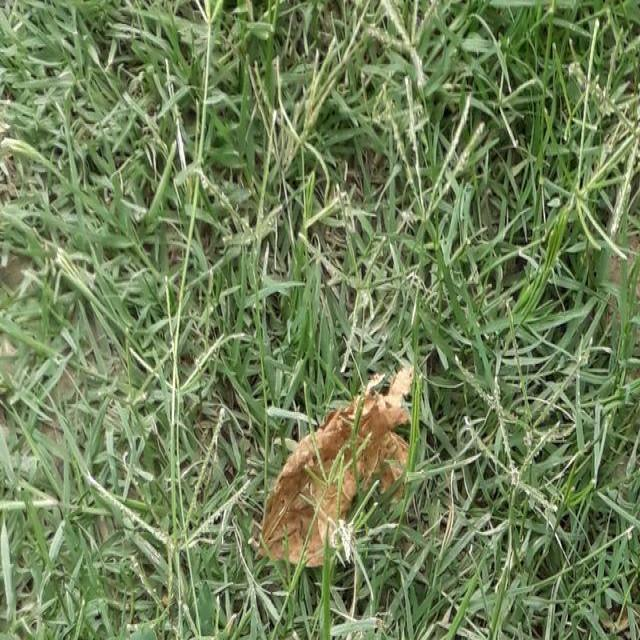weed: (10, 21, 251, 640), (281, 6, 640, 307), (410, 337, 640, 635)
